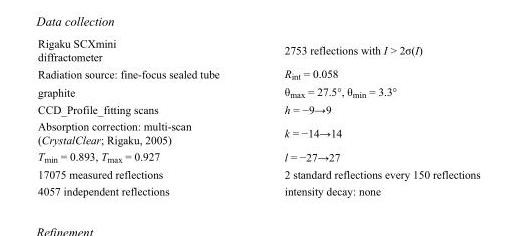table: (37, 36, 479, 196)
table column: (251, 36, 479, 196), (37, 36, 251, 196)
table row: (37, 117, 479, 147), (37, 36, 479, 64), (37, 64, 479, 82), (37, 82, 479, 100), (37, 147, 479, 165), (37, 100, 479, 117), (37, 165, 479, 182), (37, 182, 479, 196)
